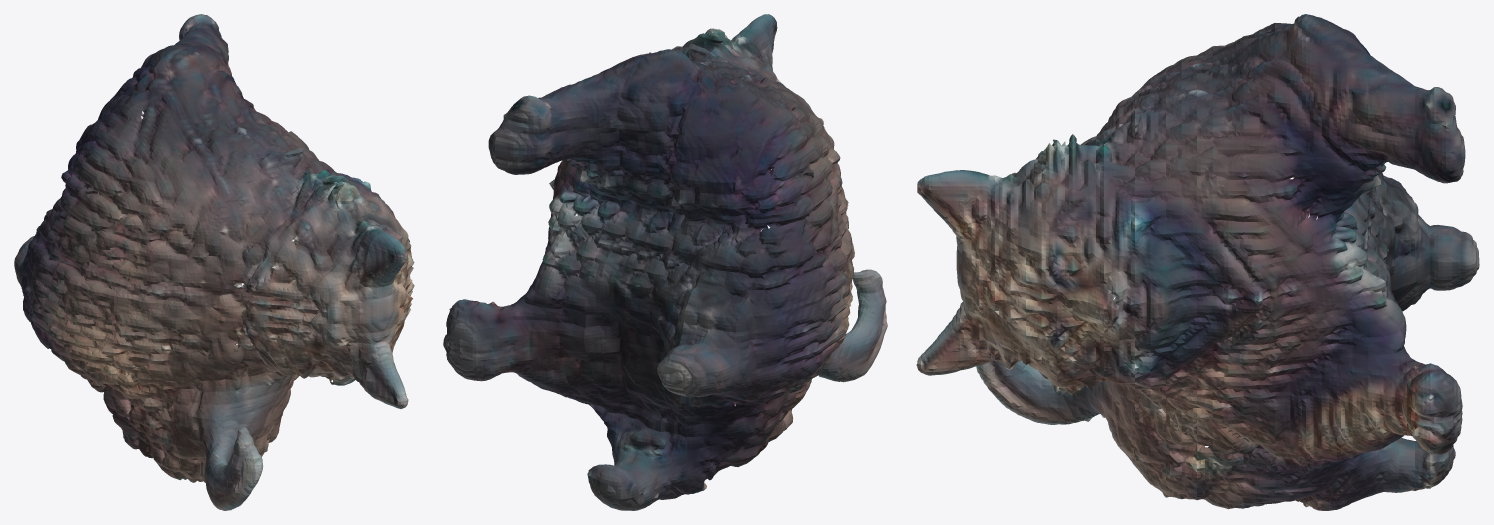
Rendered from greatClaw.glb.
3 views of the same model, side by side, from view 1: azimuth 30°, elevation 25°; view 2: azimuth 150°, elevation 25°; view 3: azimuth 270°, elevation 25° (orthographic). The views are drawn at different scales.
Parts seen in each view (by area): view 1: world; view 2: world; view 3: world.
Boxes of the visible parts, left/top/right/bottom form: world: left=14, top=14, right=414, bottom=510; world: left=443, top=14, right=887, bottom=510; world: left=916, top=14, right=1479, bottom=510.
Size of the model in its own units: 0.736 by 0.9457 by 0.9848.
